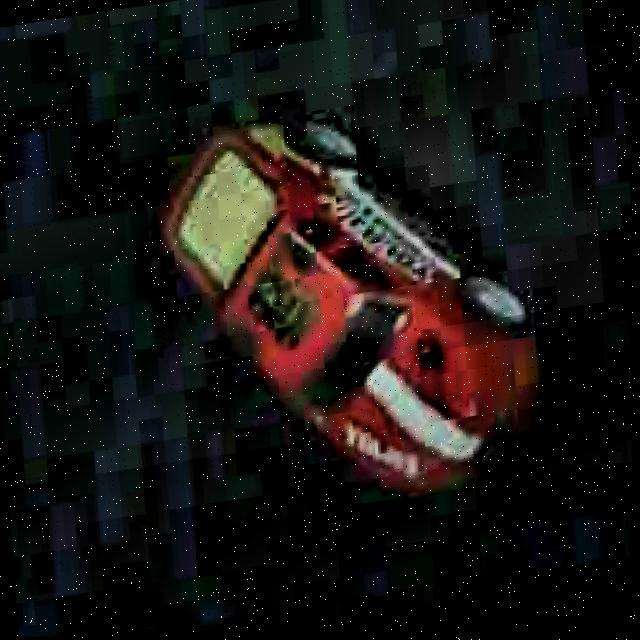car: (138, 71, 566, 535)
